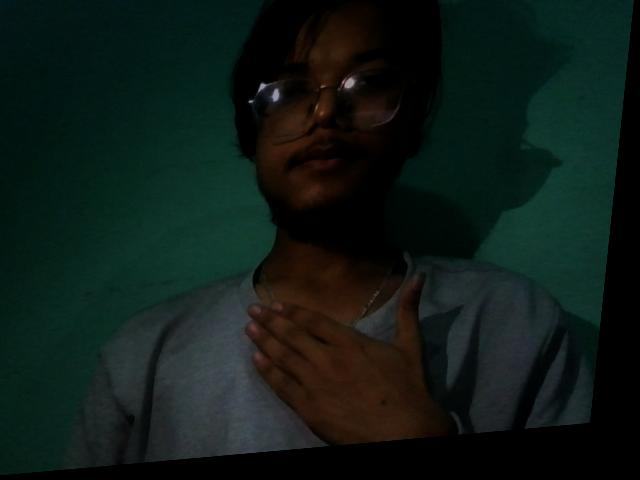Please: (180, 236, 519, 454)
